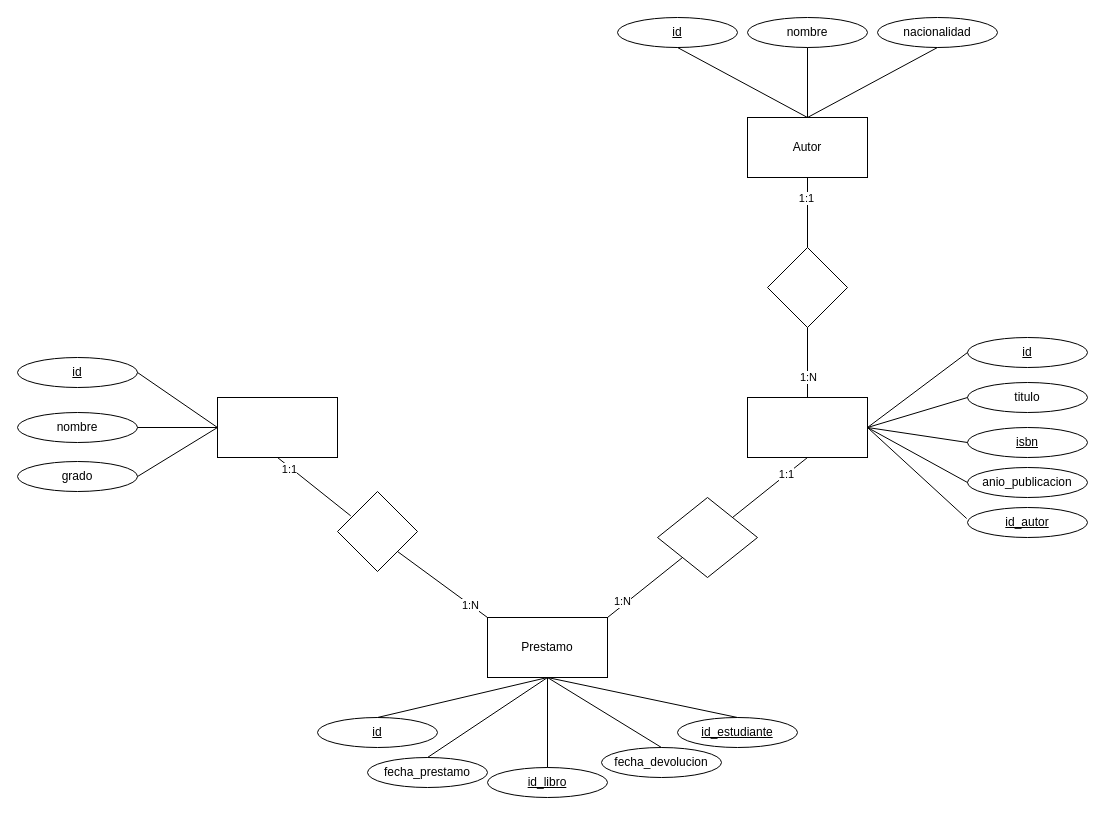
This 1105x815 diagram has some shape labels left out. Each missing label, with the box of its shape:
escribe: (766, 246, 848, 328)
Estudiante: (216, 396, 338, 458)
Libro: (746, 396, 868, 458)
presta: (656, 496, 758, 578)
realiza: (336, 490, 418, 572)
